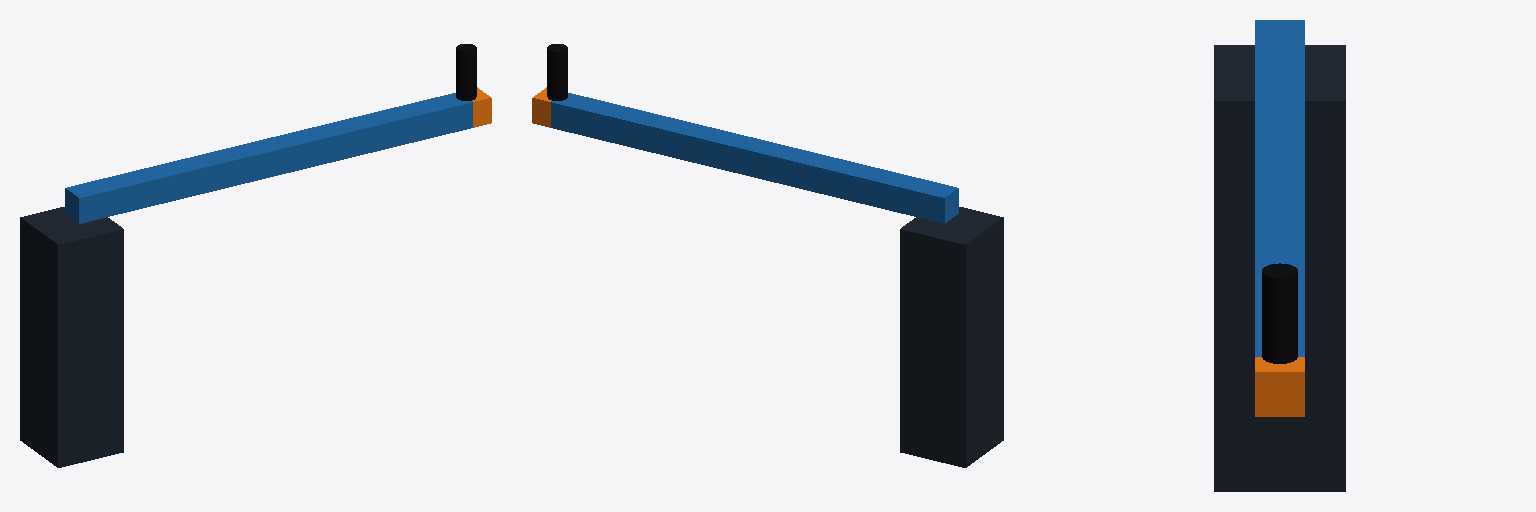
robot.urdf — generic_six_axis_palletizer:
<?xml version="1.0"?><robot name="generic_six_axis_palletizer">
<link name="base"><inertial><mass value="10"/><inertia ixx="0.03" iyy="0.13333333333333333" izz="0.13333333333333333" ixy="0" ixz="0" iyz="0"/></inertial>
    <visual><origin xyz="0 0 0.325"/><geometry><box size="0.20 0.20 0.65"/></geometry><material name="base_paint"><color rgba="0.15 0.18 0.22 1"/></material></visual>
    <collision><origin xyz="0 0 0.325"/><geometry><box size="0.20 0.20 0.65"/></geometry></collision></link>
<link name="link1"><inertial><mass value="3"/><inertia ixx="0.03" iyy="0.03" izz="0.03" ixy="0" ixz="0" iyz="0"/></inertial>
    <visual><origin xyz="0.04 0 0"/><geometry><box size="0.08 0.075 0.075"/></geometry><material name="link1_paint"><color rgba="0.15 0.45 0.7 1"/></material></visual>
    <collision><origin xyz="0.04 0 0"/><geometry><box size="0.08 0.075 0.075"/></geometry></collision></link>
<joint name="joint1" type="revolute"><parent link="base"/><child link="link1"/><origin xyz="0 0 .70"/><axis xyz="0 0 1"/><limit lower="-6.28" upper="6.28" effort="1500" velocity="1.0"/><dynamics damping="0.05"/></joint>
<link name="link2"><inertial><mass value="5"/><inertia ixx="0.03" iyy="0.6406666666666666" izz="0.6406666666666666" ixy="0" ixz="0" iyz="0"/></inertial>
    <visual><origin xyz="0.31 0 0"/><geometry><box size="0.62 0.075 0.075"/></geometry><material name="link2_paint"><color rgba="0.15 0.45 0.7 1"/></material></visual>
    <collision><origin xyz="0.31 0 0"/><geometry><box size="0.62 0.075 0.075"/></geometry></collision></link>
<joint name="joint2" type="revolute"><parent link="link1"/><child link="link2"/><origin xyz="0 0 0"/><axis xyz="0 1 0"/><limit lower="-6.28" upper="6.28" effort="1500" velocity="1.0"/><dynamics damping="0.05"/></joint>
<link name="link3"><inertial><mass value="4"/><inertia ixx="0.03" iyy="0.4485333333333333" izz="0.4485333333333333" ixy="0" ixz="0" iyz="0"/></inertial>
    <visual><origin xyz="0.29 0 0"/><geometry><box size="0.58 0.075 0.075"/></geometry><material name="link3_paint"><color rgba="0.15 0.45 0.7 1"/></material></visual>
    <collision><origin xyz="0.29 0 0"/><geometry><box size="0.58 0.075 0.075"/></geometry></collision></link>
<joint name="joint3" type="revolute"><parent link="link2"/><child link="link3"/><origin xyz=".62 0 0"/><axis xyz="0 1 0"/><limit lower="-6.28" upper="6.28" effort="1500" velocity="1.0"/><dynamics damping="0.05"/></joint>
<link name="link4"><inertial><mass value="0.8"/><inertia ixx="0.03" iyy="0.03" izz="0.03" ixy="0" ixz="0" iyz="0"/></inertial>
    <visual><origin xyz="0.0275 0 0"/><geometry><box size="0.055 0.075 0.075"/></geometry><material name="link4_paint"><color rgba="0.95 0.5 0.1 1"/></material></visual>
    <collision><origin xyz="0.0275 0 0"/><geometry><box size="0.055 0.075 0.075"/></geometry></collision></link>
<joint name="joint4" type="revolute"><parent link="link3"/><child link="link4"/><origin xyz=".58 0 0"/><axis xyz="1 0 0"/><limit lower="-6.28" upper="6.28" effort="1500" velocity="1.0"/><dynamics damping="0.05"/></joint>
<link name="link5"><inertial><mass value="0.6"/><inertia ixx="0.03" iyy="0.03" izz="0.03" ixy="0" ixz="0" iyz="0"/></inertial>
    <visual><origin xyz="0.0225 0 0"/><geometry><box size="0.045 0.075 0.075"/></geometry><material name="link5_paint"><color rgba="0.95 0.5 0.1 1"/></material></visual>
    <collision><origin xyz="0.0225 0 0"/><geometry><box size="0.045 0.075 0.075"/></geometry></collision></link>
<joint name="joint5" type="revolute"><parent link="link4"/><child link="link5"/><origin xyz="0 0 0"/><axis xyz="0 1 0"/><limit lower="-6.28" upper="6.28" effort="1500" velocity="1.0"/><dynamics damping="0.05"/></joint>
<link name="link6"><inertial><mass value="0.4"/><inertia ixx="0.03" iyy="0.03" izz="0.03" ixy="0" ixz="0" iyz="0"/></inertial>
    <visual><origin xyz="0.0175 0 0"/><geometry><box size="0.035 0.075 0.075"/></geometry><material name="link6_paint"><color rgba="0.95 0.5 0.1 1"/></material></visual>
    <collision><origin xyz="0.0175 0 0"/><geometry><box size="0.035 0.075 0.075"/></geometry></collision></link>
<joint name="joint6" type="revolute"><parent link="link5"/><child link="link6"/><origin xyz="0 0 0"/><axis xyz="0 0 1"/><limit lower="-6.28" upper="6.28" effort="1500" velocity="1.0"/><dynamics damping="0.05"/></joint>
<link name="vacuum_tool"><inertial><mass value="0.15"/><inertia ixx=".001" iyy=".001" izz=".001" ixy="0" ixz="0" iyz="0"/></inertial><visual><origin xyz="0 0 .09"/><geometry><cylinder radius=".027" length=".18"/></geometry><material name="black"><color rgba=".08 .08 .09 1"/></material></visual><collision><origin xyz="0 0 .09"/><geometry><cylinder radius=".027" length=".18"/></geometry></collision></link><joint name="tool_fixed" type="fixed"><parent link="link6"/><child link="vacuum_tool"/></joint></robot>

--- Render facts (derived) ---
3 views of the same robot in one strip: view 1: azimuth 30°, elevation 25°; view 2: azimuth 150°, elevation 25°; view 3: azimuth 270°, elevation 25° (orthographic).
Robot: generic_six_axis_palletizer — 8 links, 7 joints (6 revolute, 1 fixed); root link base; default pose: every joint at zero.
Links seen in each view (by area): view 1: base, link3, link2, vacuum_tool, link1, link4; view 2: base, link3, link2, vacuum_tool, link1, link4; view 3: base, link2, link3, vacuum_tool, link4, link1.
Boxes of the visible links, x1,y1,x2,y2 form: base: (20,207,123,467); link3: (269,93,472,173); link2: (68,138,282,223); vacuum_tool: (456,44,476,100); link1: (65,182,105,223); link4: (472,87,491,127); base: (900,207,1003,467); link3: (551,93,754,173); link2: (741,138,951,222); vacuum_tool: (547,44,567,100); link1: (918,182,958,223); link4: (532,87,550,126); base: (1214,45,1345,491); link2: (1255,20,1304,193); link3: (1255,194,1304,356); vacuum_tool: (1262,263,1297,363); link4: (1255,357,1304,416); link1: (1255,20,1304,42).
Bounding box of the posed robot: 1.35 × 0.2 × 0.88 m (x, y, z).
Geometry: primitives only (box / cylinder / sphere), no mesh files.
